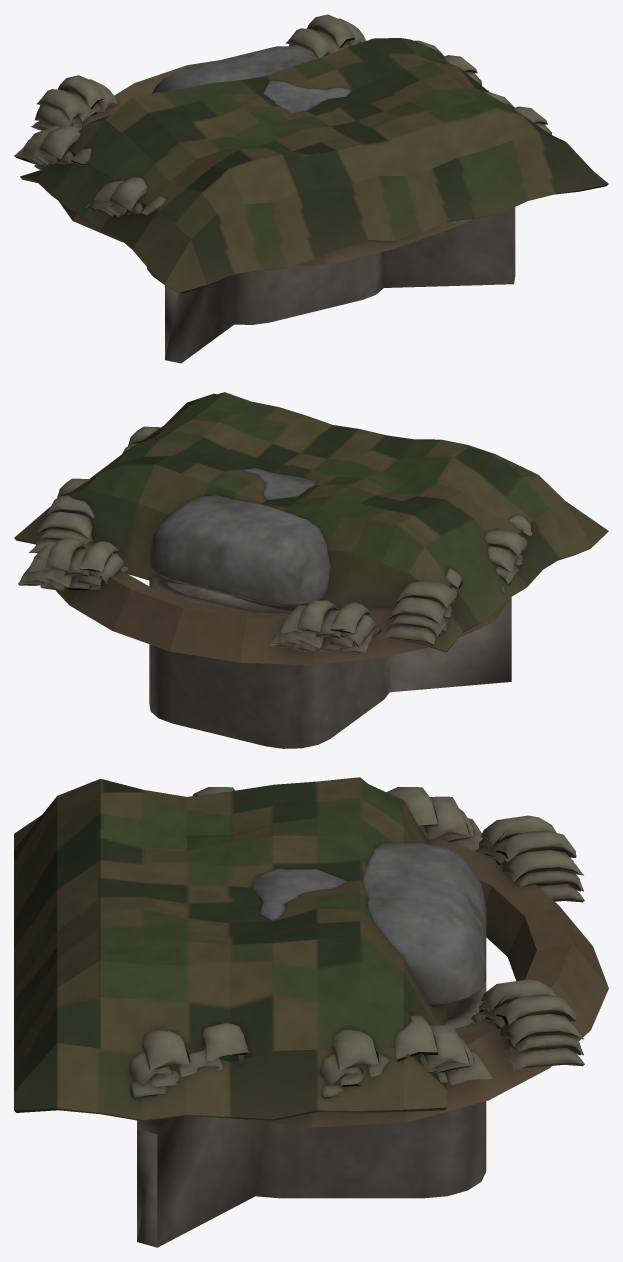
Rendered from hbox.glb.
3 renders of one model, top to bottom at view 1: azimuth 30°, elevation 25°; view 2: azimuth 150°, elevation 25°; view 3: azimuth 270°, elevation 25°, orthographic. The views are drawn at different scales.
Parts seen in each view (by area): view 1: hull; view 2: hull; view 3: hull.
Boxes of the visible parts, bbox=[...] form: hull: bbox=[14, 14, 608, 363]; hull: bbox=[14, 392, 608, 748]; hull: bbox=[14, 777, 608, 1247].
Size of the model in its own units: 7.4 by 3.43 by 6.6.
Materials: 1 (1 with a texture image).
